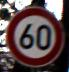Speed Limit -60-: (5, 6, 61, 65)
